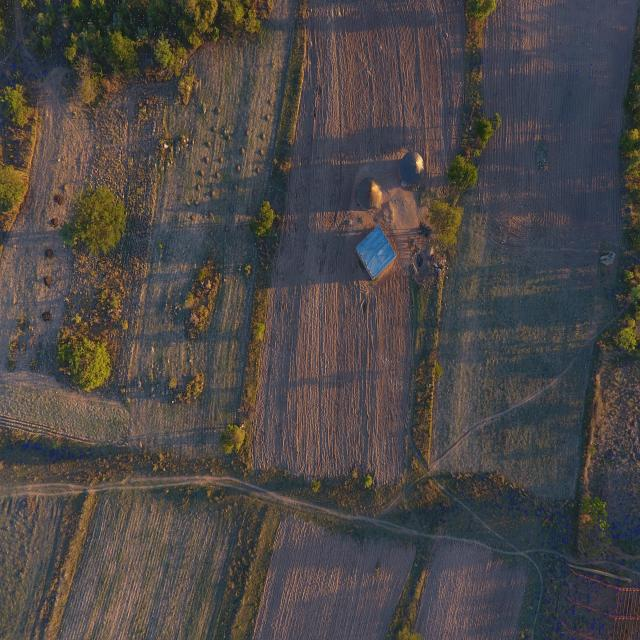boundaries: (392, 32, 498, 485), (225, 18, 327, 452)
